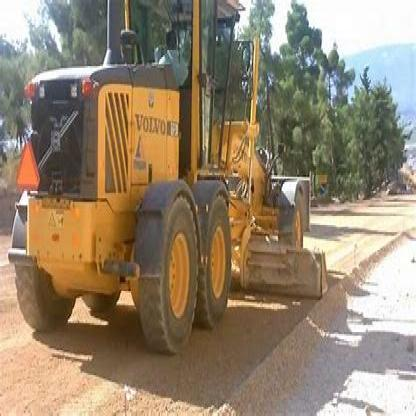bull_dozer/loader/grader: (16, 4, 333, 357)
